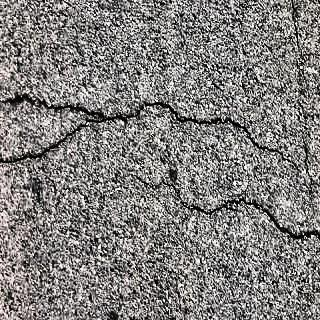crack: (113, 100, 308, 171), (135, 177, 320, 240), (1, 116, 104, 174), (0, 88, 113, 121)
